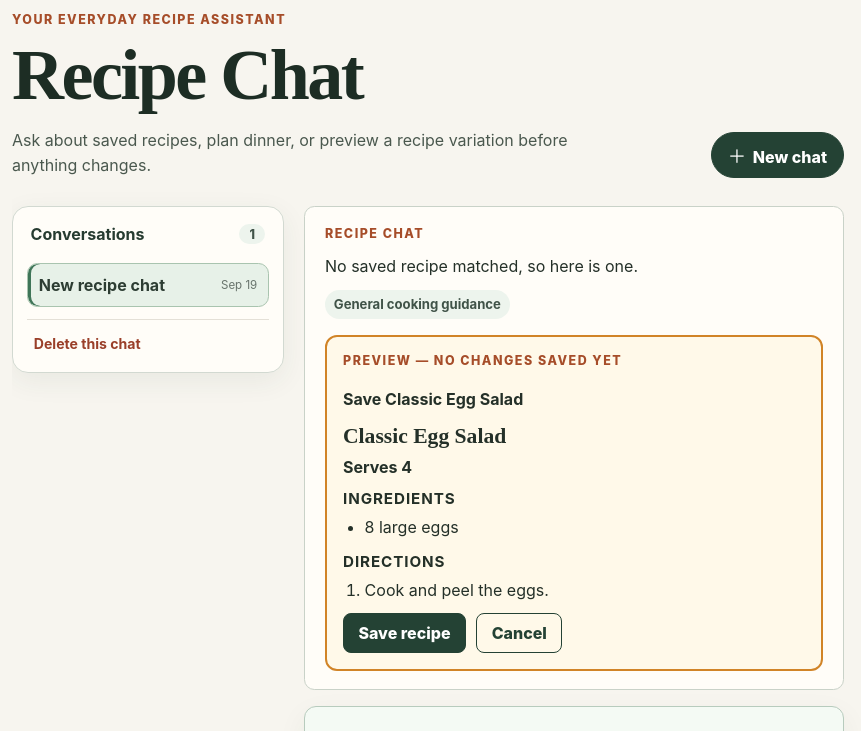
Test: renders a generated recipe preview with an explicit save action
expect the heading "Classic Egg Salad" is shown: met, box [343, 424, 506, 448]
What coordinates should you click on to do the following:
click the button "Save recipe"
I would click on:
 (404, 633)
Its box is [343, 613, 466, 653].
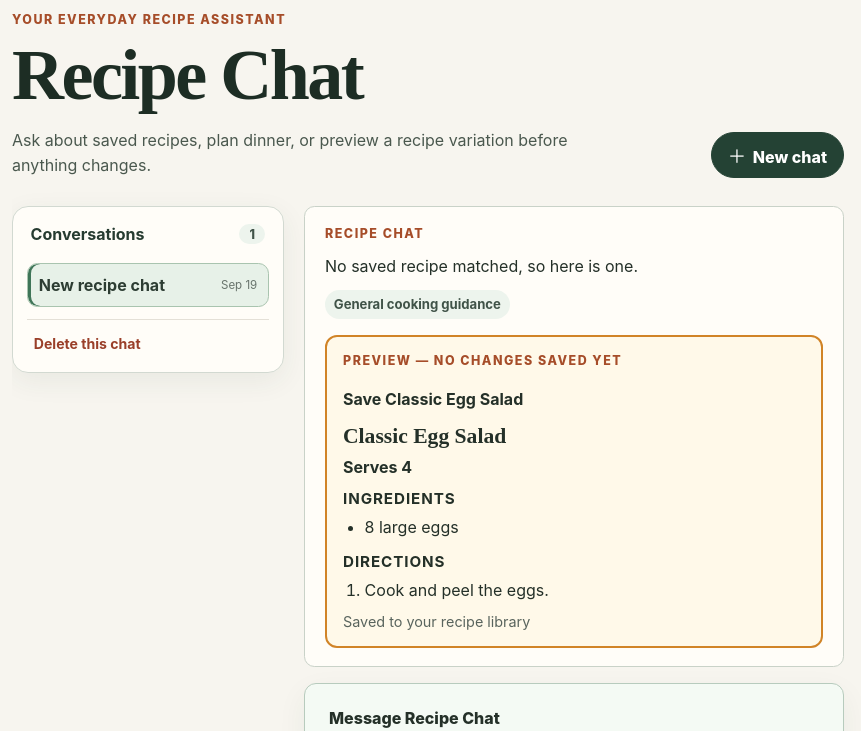
expect the text "Saved to your recipe library" is shown: met, box [343, 613, 530, 630]
